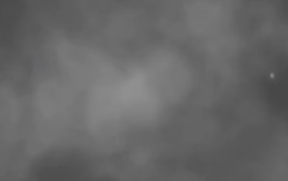Target: (270, 74, 273, 77)
